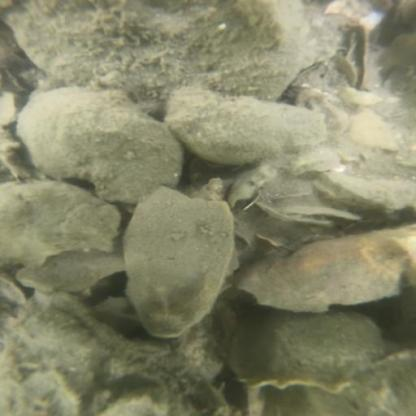Oyster-Closed: (0, 0, 312, 112), (16, 87, 187, 204), (121, 186, 235, 344), (224, 303, 387, 392), (163, 85, 332, 164), (0, 178, 117, 269), (234, 0, 292, 48), (344, 109, 398, 156)
Oyster-Open: (339, 25, 374, 89)
